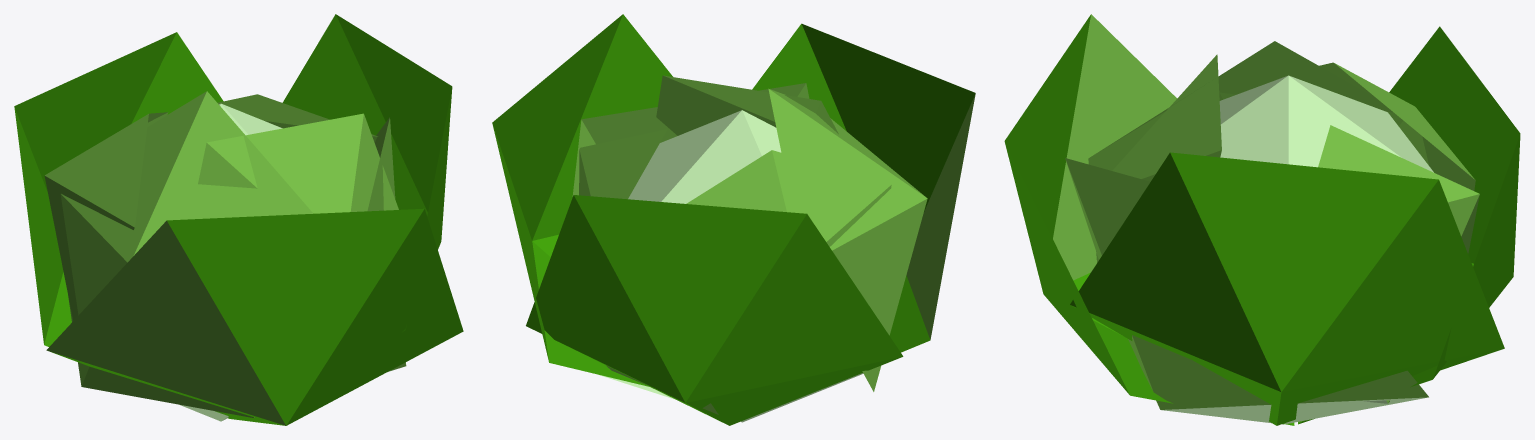
File: cabbage.fbx
3 views of the same model, side by side, from view 1: azimuth 30°, elevation 25°; view 2: azimuth 150°, elevation 25°; view 3: azimuth 270°, elevation 25° (orthographic). The views are drawn at different scales.
Parts seen in each view (by area): view 1: Icosphere; view 2: Icosphere; view 3: Icosphere.
Part boxes in pixels (x1,y1,x2,y2): Icosphere: (14, 14, 463, 425); Icosphere: (492, 14, 975, 425); Icosphere: (1004, 14, 1520, 425).
Size of the model in its own units: 66.22 by 54.15 by 68.73.
